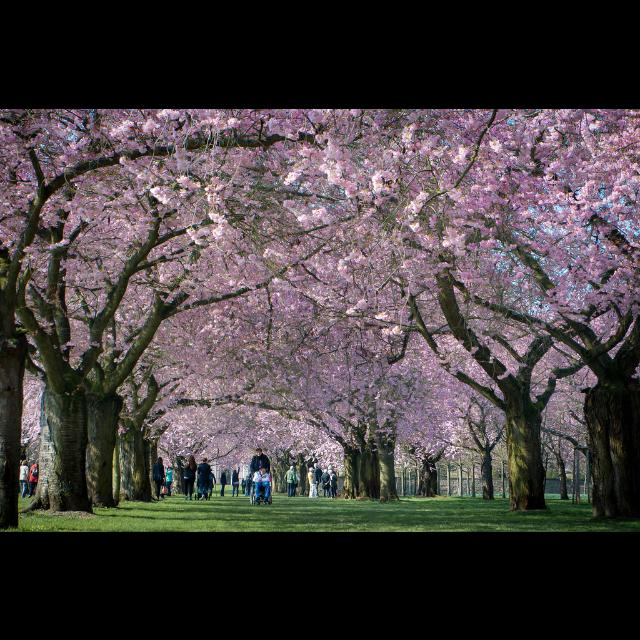Flower: (1, 108, 640, 476)
